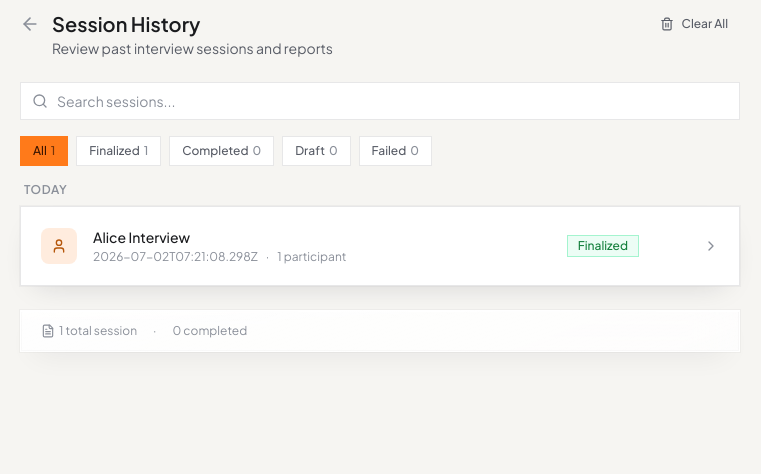
Test: HistoryView › shows "No sessions found" when search has no results
Type "zzz_no_match" into the field with placeholder "Search sessions..." at [380, 101], box [20,82,740,120]
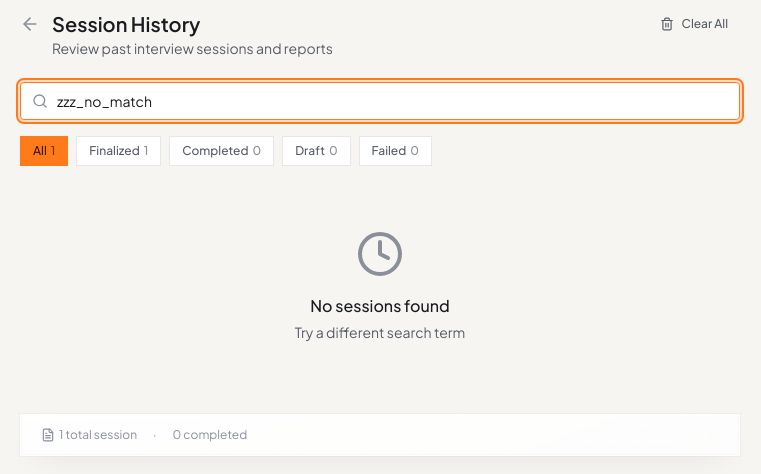
Result: the heading "No sessions found" is shown at [310,294,450,318]
